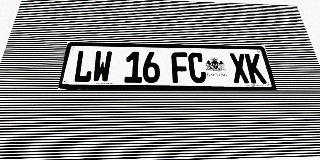1: (124, 51, 142, 83)
6: (143, 52, 160, 83)
C: (188, 52, 207, 83)
F: (171, 52, 190, 83)
K: (244, 53, 267, 83)
L: (72, 50, 95, 83)
W: (91, 51, 112, 83)
X: (229, 53, 250, 83)
